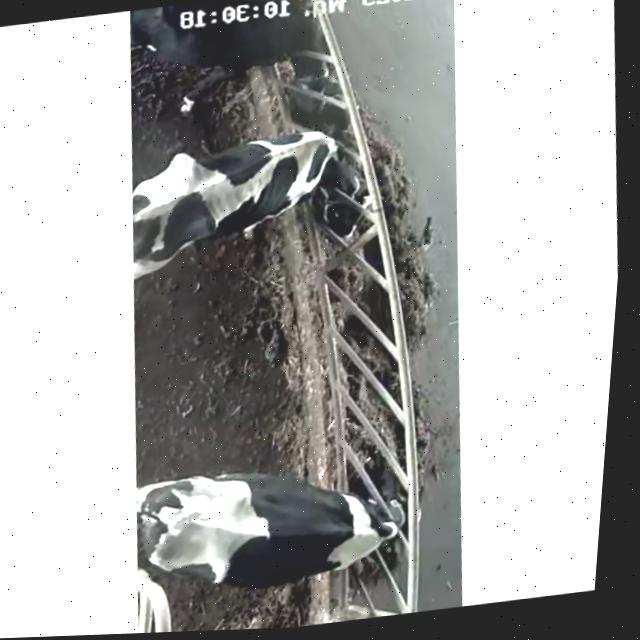eat: (241, 107, 410, 241), (199, 0, 373, 108), (294, 464, 445, 587)
